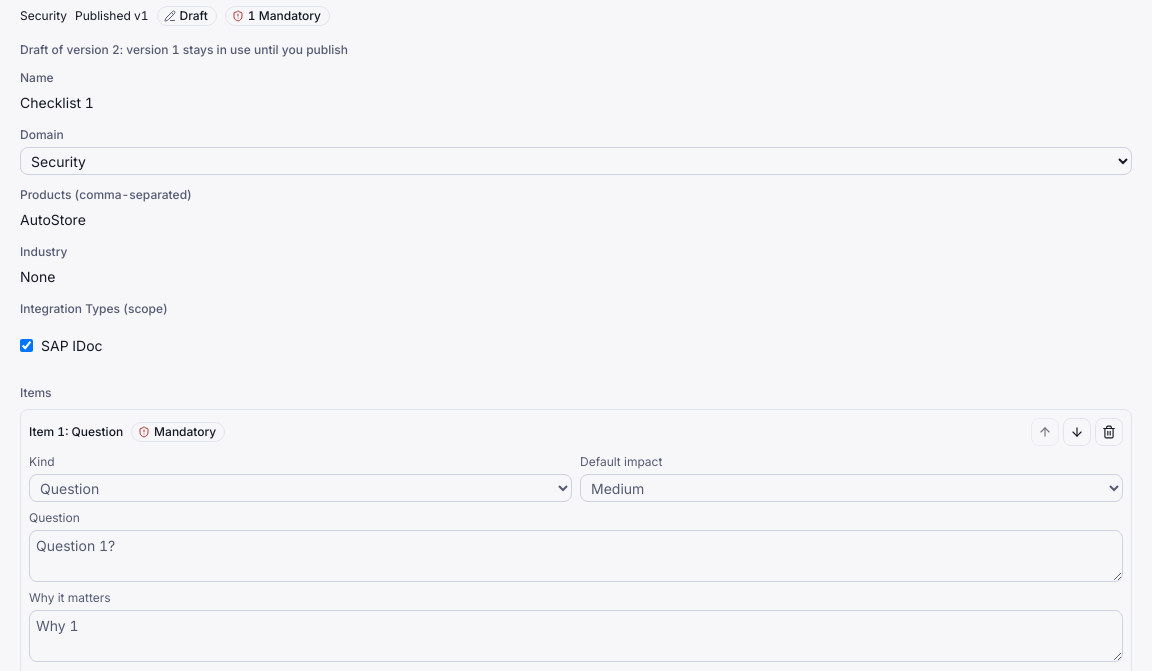
Scenario: ChecklistInspector › discards queued changes when the save in flight comes back stale
Select "General" in the dropdown labelled "Domain": [576, 161] box [20,147,1132,175]
(page scrolled)
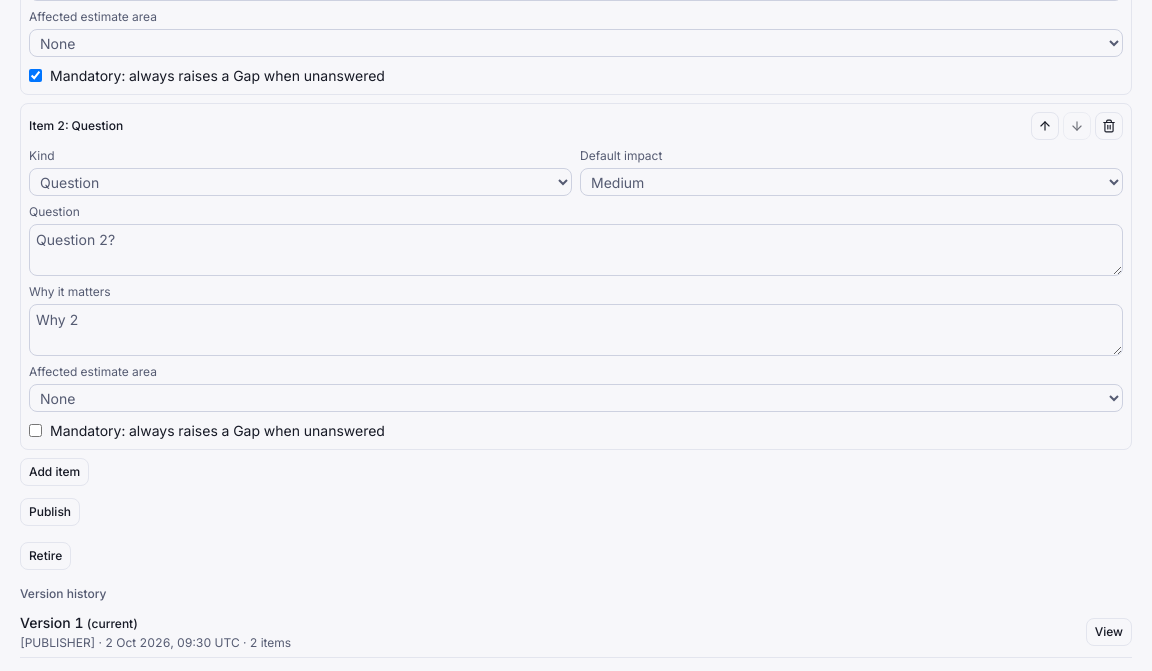
Click the button "Add item": [55, 472] box [20,458,89,486]
(page scrolled)
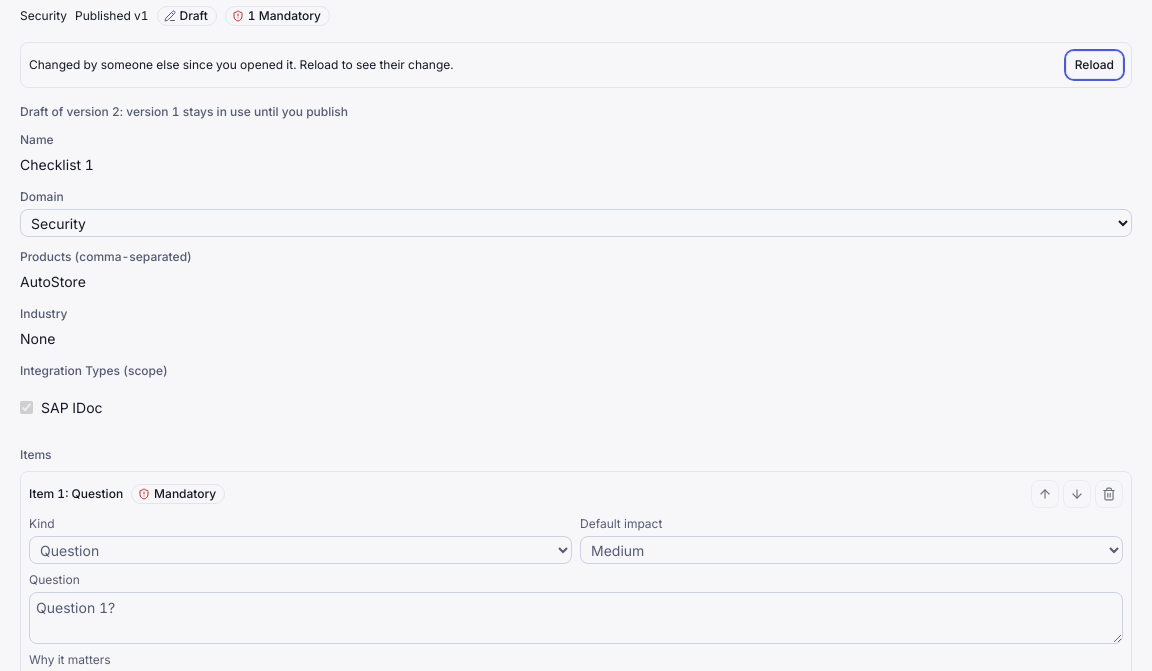
Expected: the button "Reload" is shown, [1066,51,1123,79]
